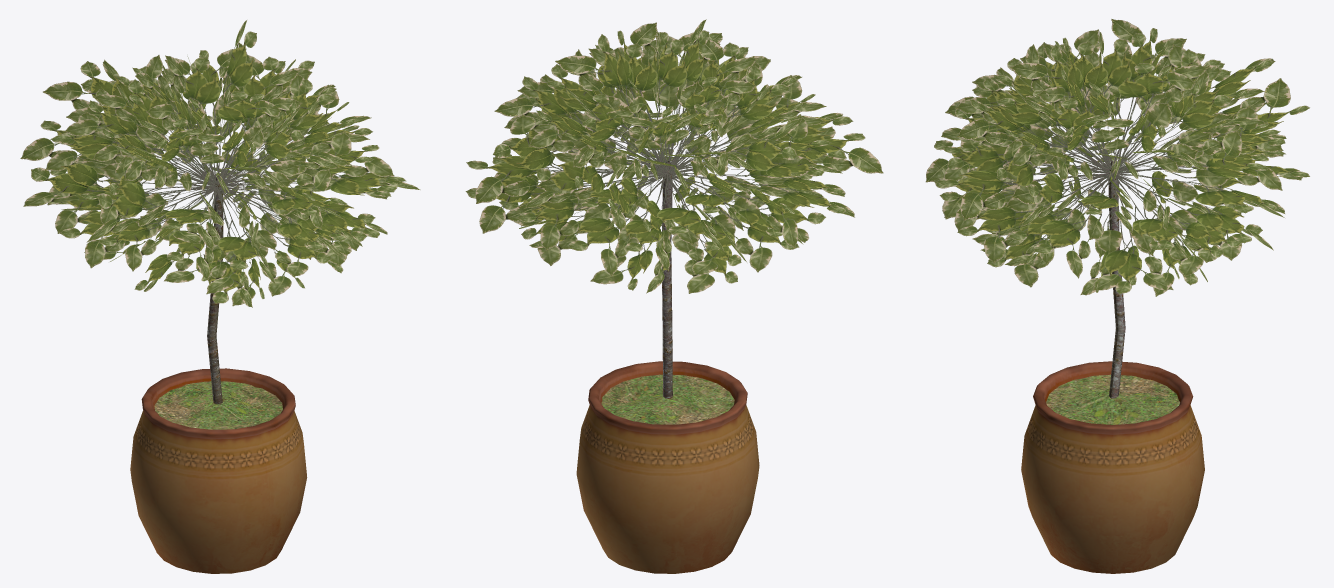
Rendered from MB_Pot_Flower_10.fbx.
The picture shows the model from 3 angles, left to right: view 1: azimuth 30°, elevation 25°; view 2: azimuth 150°, elevation 25°; view 3: azimuth 270°, elevation 25°; orthographic projection. The views are drawn at different scales.
Visible parts, largest first — view 1: MB_Pot_Flower_10_LOD0; view 2: MB_Pot_Flower_10_LOD0; view 3: MB_Pot_Flower_10_LOD0.
Boxes of the visible parts, x1,y1,x2,y2 form: MB_Pot_Flower_10_LOD0: (20, 20, 420, 573); MB_Pot_Flower_10_LOD0: (465, 19, 883, 573); MB_Pot_Flower_10_LOD0: (925, 19, 1309, 573).
Size of what is drawn, in the model's own units: 124 by 174 by 123.
